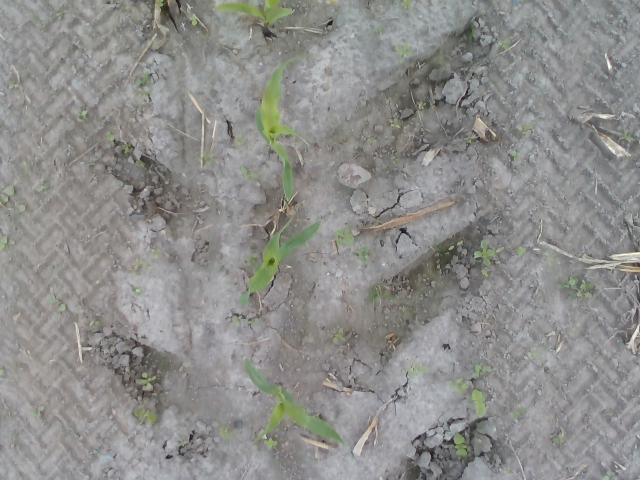Maize: (243, 358, 346, 448), (236, 220, 320, 304), (254, 57, 298, 202), (210, 0, 296, 30)
Weeds: (336, 222, 369, 266), (558, 271, 593, 305), (127, 248, 160, 279), (473, 237, 497, 278), (468, 386, 489, 418), (132, 406, 162, 426), (452, 432, 473, 458), (468, 359, 496, 378), (447, 376, 472, 395), (134, 70, 152, 96), (135, 370, 157, 391), (257, 429, 280, 449), (394, 42, 414, 64), (239, 164, 263, 182), (404, 360, 428, 378), (439, 240, 464, 256), (0, 184, 18, 206), (48, 292, 66, 312), (231, 314, 255, 328), (368, 282, 383, 304), (328, 326, 346, 344), (510, 404, 530, 419), (218, 423, 233, 442), (518, 119, 534, 136), (512, 239, 528, 256), (195, 150, 217, 162), (467, 22, 478, 44), (31, 400, 45, 417), (121, 143, 136, 158), (552, 432, 566, 448), (16, 204, 32, 216), (622, 128, 634, 144), (0, 238, 13, 252), (24, 158, 34, 176), (33, 180, 48, 192), (527, 351, 545, 361), (401, 0, 414, 13), (102, 131, 114, 145), (388, 117, 402, 129), (246, 254, 258, 268), (32, 15, 50, 24), (232, 135, 248, 145), (498, 37, 510, 50), (600, 471, 617, 480), (288, 0, 298, 15), (74, 110, 88, 120), (90, 320, 104, 330), (176, 438, 188, 448), (6, 79, 18, 89), (368, 136, 380, 146), (130, 287, 142, 297), (190, 15, 200, 26), (319, 0, 337, 6), (416, 100, 426, 110), (542, 248, 552, 258), (391, 152, 399, 164), (134, 159, 144, 168), (55, 7, 65, 16), (374, 23, 384, 32), (468, 134, 476, 145), (280, 234, 287, 246), (511, 150, 518, 162), (95, 448, 103, 456), (474, 456, 481, 464), (0, 367, 5, 376), (159, 0, 165, 7), (329, 12, 337, 16)
